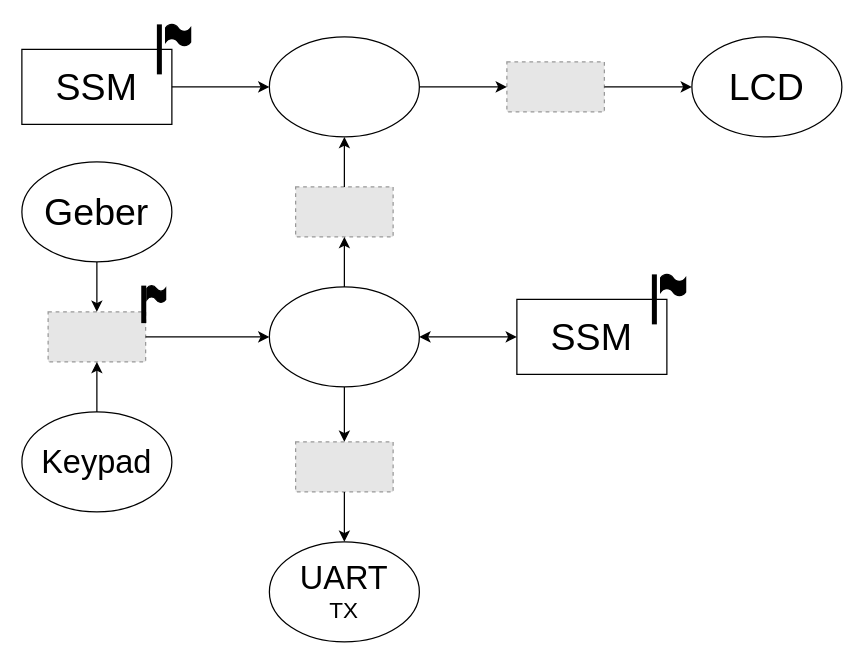
Some shapes in this 864 by 664 pixel diagram are drawn without their labels. Grey dashed boxes stand in for pictures. Here are the shapes that lost their labels. From the top down, the centre of each, then its label:
the point at 343,86: Display
the point at 343,336: UI
